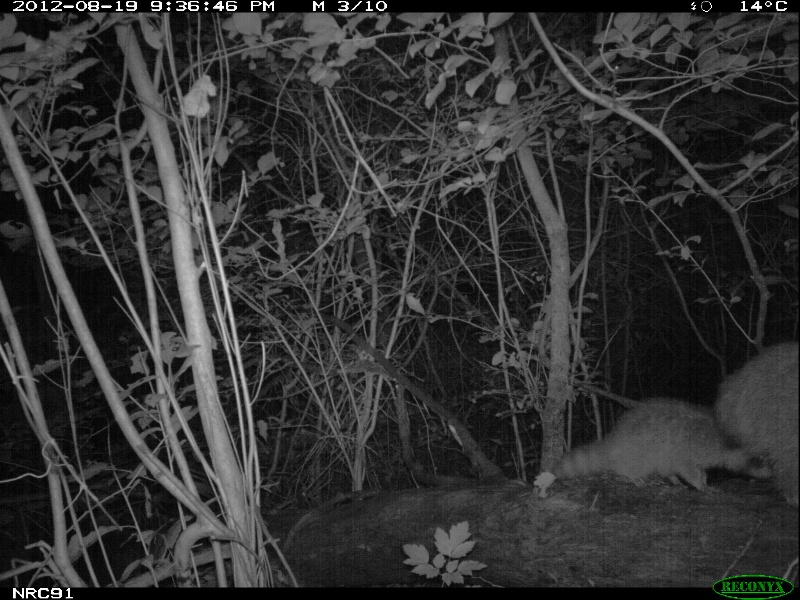raccoon: (539, 397, 773, 499)
